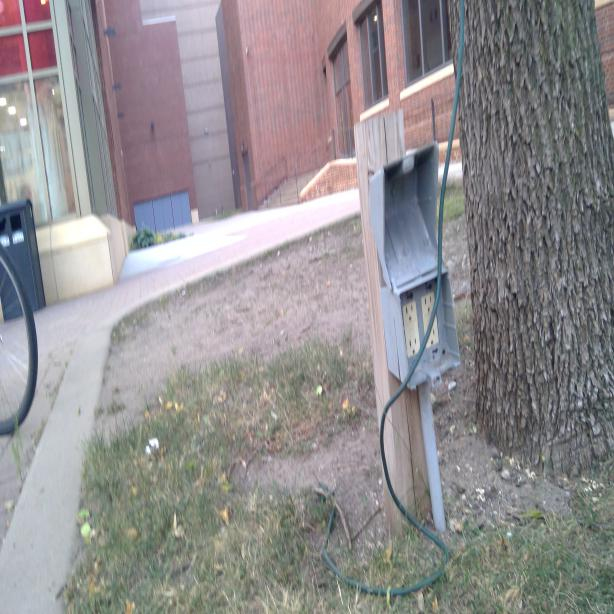typeb: (400, 303, 416, 326), (422, 292, 434, 315), (428, 324, 437, 350), (408, 336, 418, 355)
